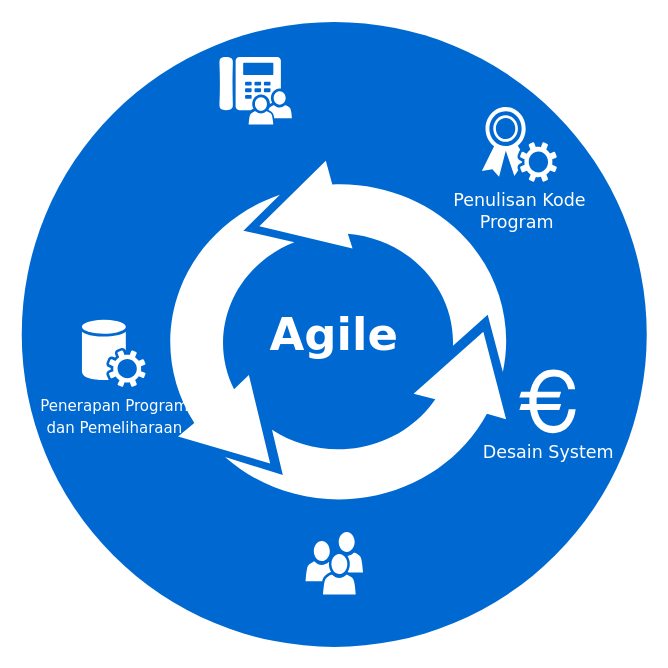
The diagram is 668 pixels wide and 668 high, and some of its shapes have lost their labels. Each missing label, with the centre of its shape:
"Analisa Kebutuhan" goes at [333,562].
"Pengujian Program" goes at [255,90].
